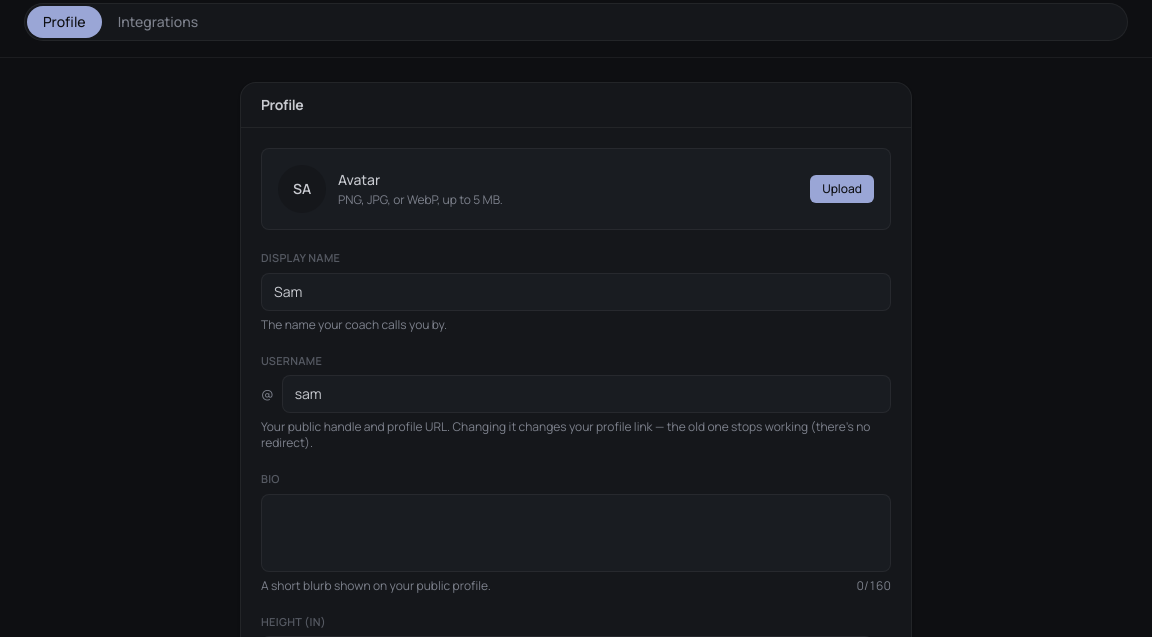
Test: Settings — save bar › disables Save with a reason when the display name is empty
Clear the field labelled "Display name" at (576, 292), box [261,272,891,310]
(page scrolled)
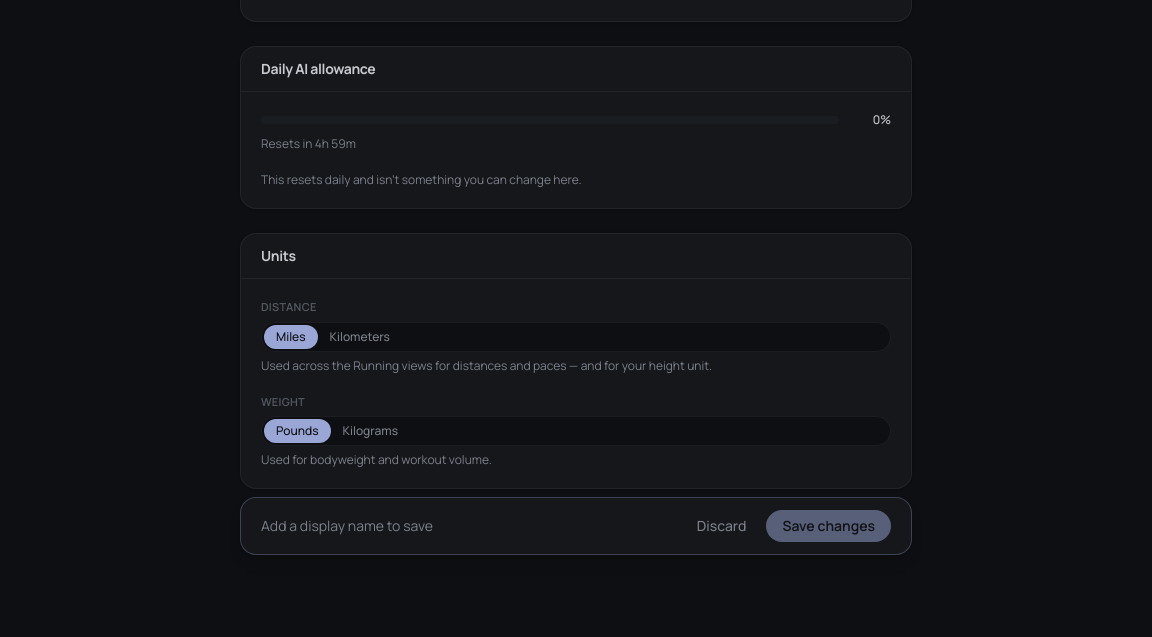
Check: the text "Add a display name to save" is shown, box [261,516,433,536]
Check: the button "Save changes" is disabled, box [766,510,891,542]
